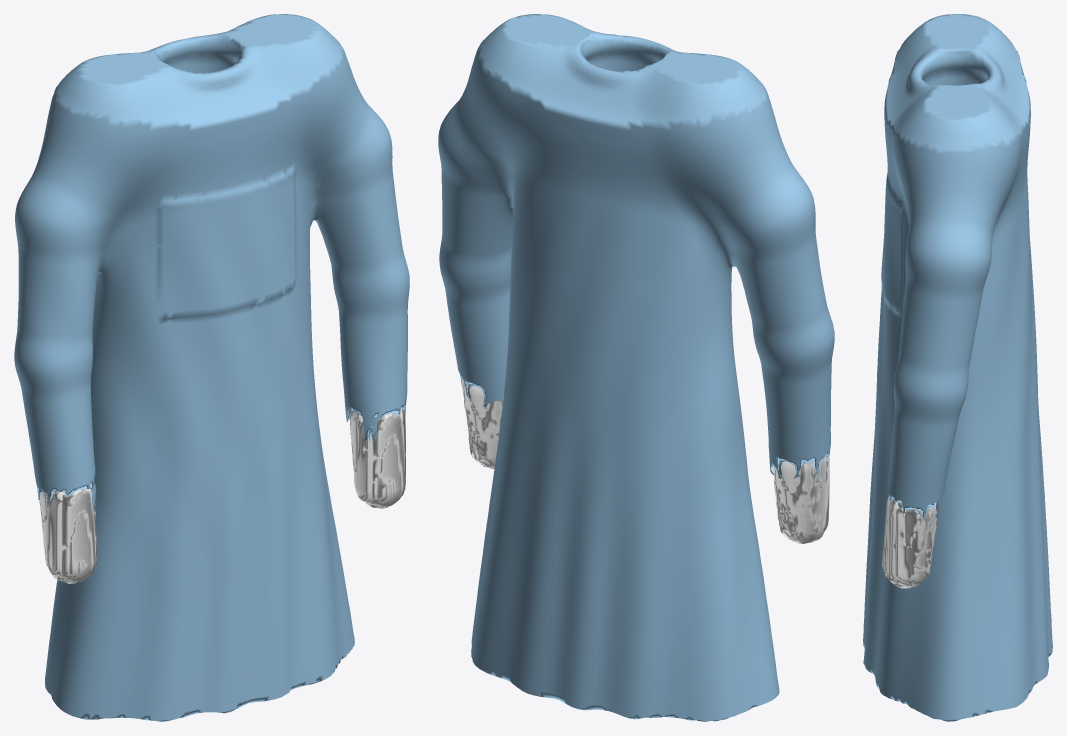
File: arosafe-gown.glb
3 renders of one model, left to right at view 1: azimuth 30°, elevation 25°; view 2: azimuth 150°, elevation 25°; view 3: azimuth 270°, elevation 25°, orthographic. The views are drawn at different scales.
Parts seen in each view (by area): view 1: Gown, Cuffs; view 2: Gown, Cuffs; view 3: Gown, Cuffs.
Boxes of the visible parts, box(x1,y1,x2,y2) form: Gown: box(14, 14, 409, 721); Cuffs: box(39, 408, 405, 583); Gown: box(438, 14, 834, 721); Cuffs: box(462, 379, 829, 543); Gown: box(863, 14, 1052, 721); Cuffs: box(882, 495, 939, 588).
Size of the model in its own units: 1.88 by 2.92 by 0.8519.
